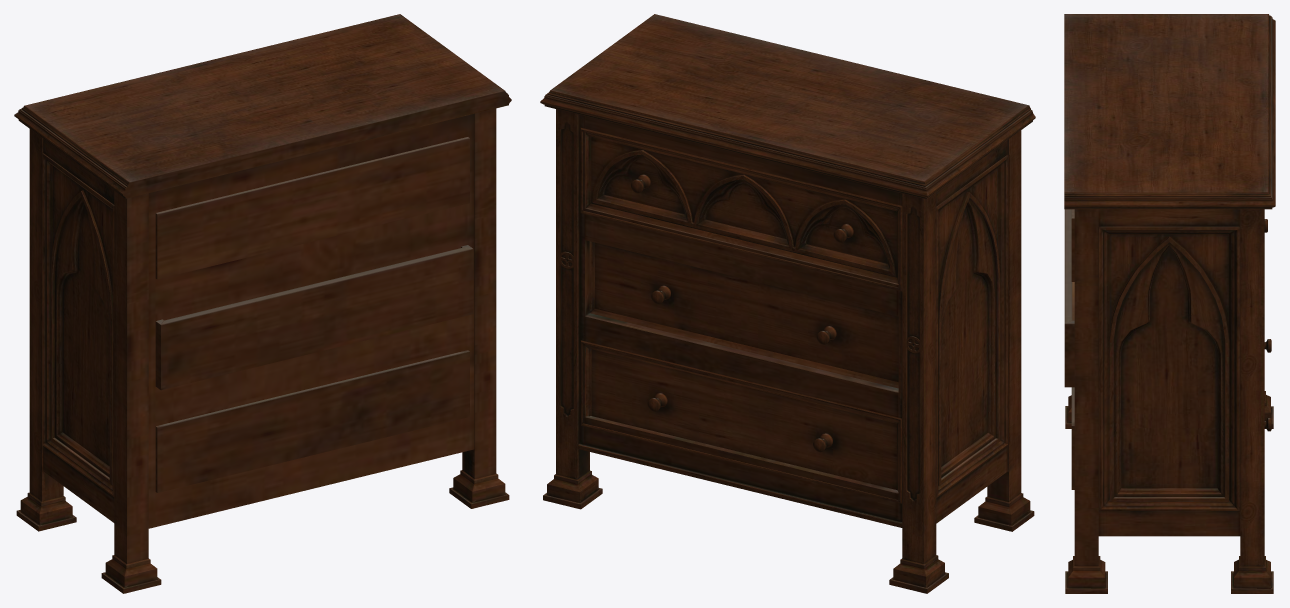
File: chest-gothic-commode.glb
3 views of the same model, side by side, from view 1: azimuth 30°, elevation 25°; view 2: azimuth 150°, elevation 25°; view 3: azimuth 270°, elevation 25° (orthographic). The views are drawn at different scales.
Parts seen in each view (by area): view 1: chest-gothic-commode; view 2: chest-gothic-commode; view 3: chest-gothic-commode.
Boxes of the visible parts, box(x1,y1,x2,y2) form: chest-gothic-commode: box(14, 14, 511, 593); chest-gothic-commode: box(540, 14, 1035, 593); chest-gothic-commode: box(1064, 14, 1275, 593).
Size of the model in its own units: 1.2 by 1.21 by 0.5807.
1 material, 1 textured.
